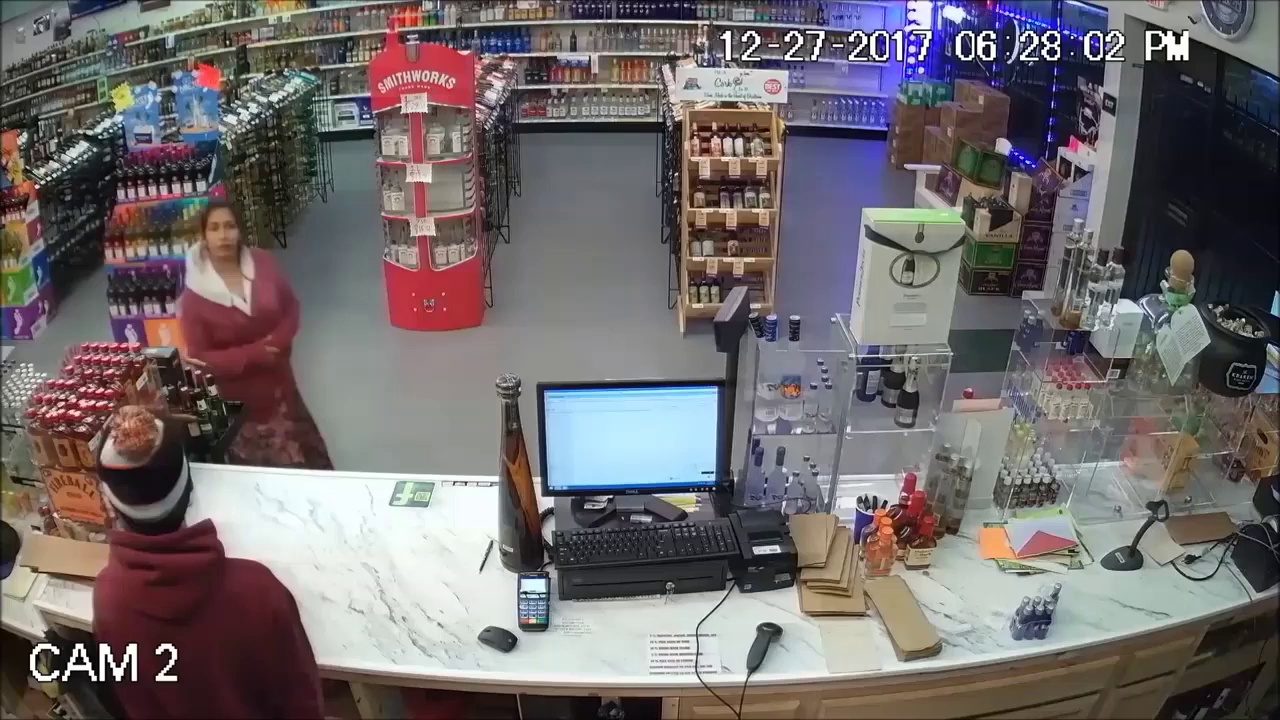face: (201, 214, 242, 258)
